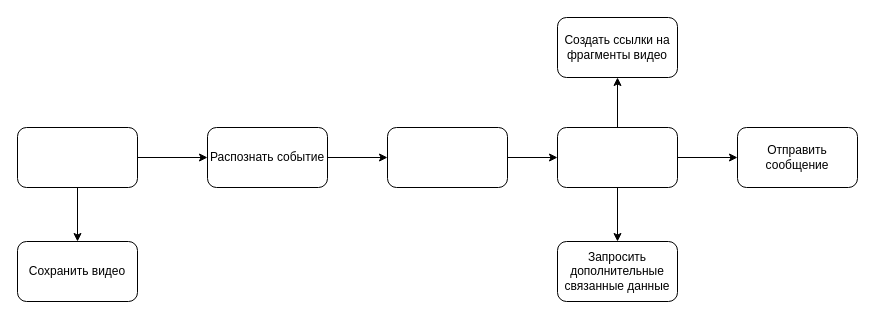
Some shapes in this 875 by 319 pixel diagram are drawn without their labels. Here are the shapes that lost their labels. From the top down, the centre of each, then its label:
At [77,157]: "Получить видео".
At [447,157]: "Отфильтровать действующие события".
At [617,157]: "Сформировать сообщение".
